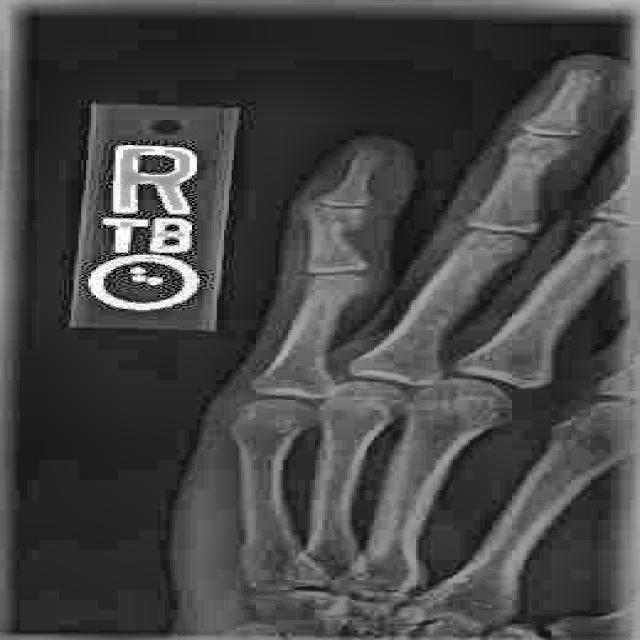fingers positive: (293, 200, 379, 246)
